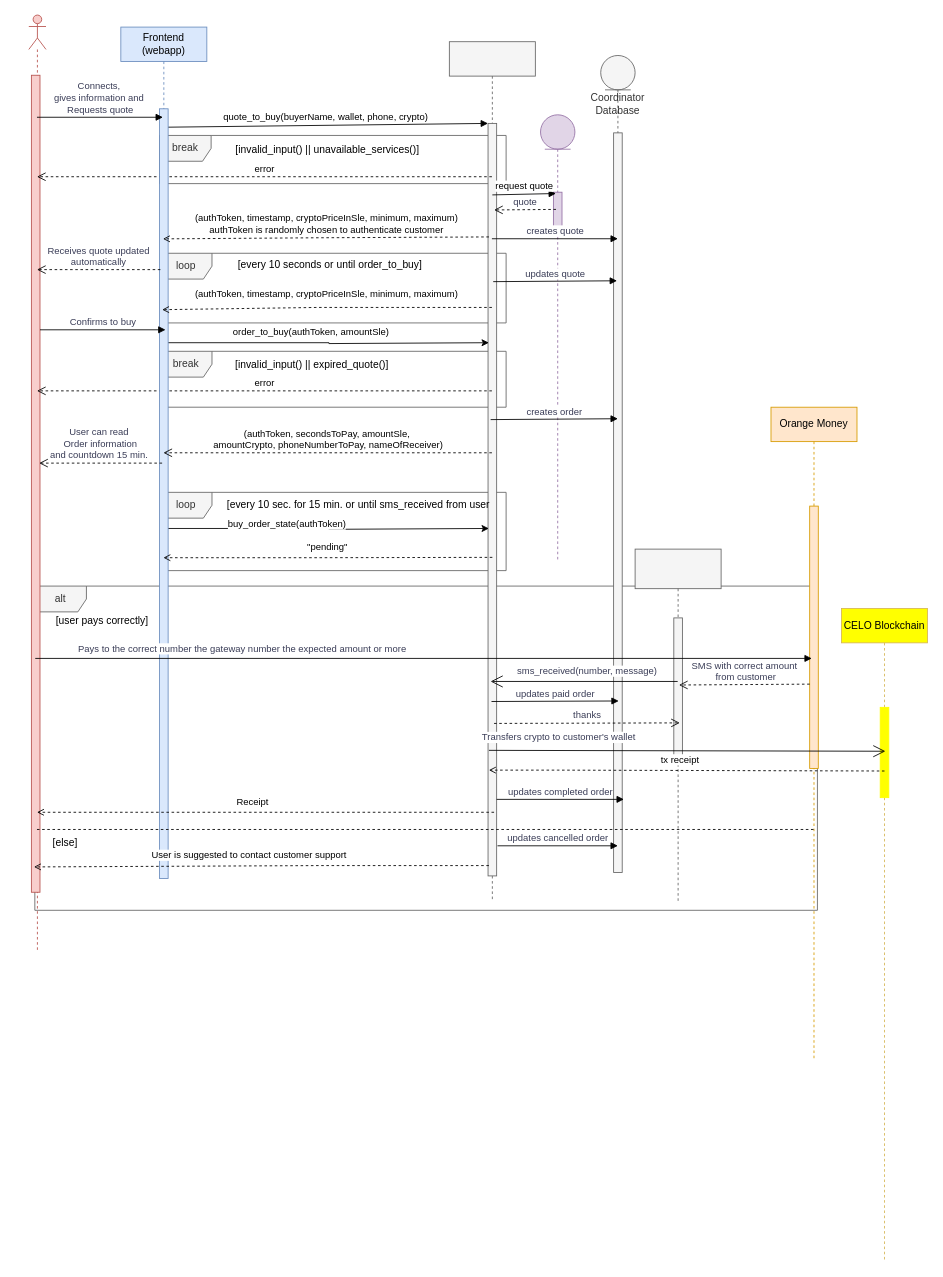
This 943x1277 diagram has some shape labels left out. Here are the shapes that lost their labels. From the top down, the box of each, then its label:
(540, 114, 575, 562): Quotes Oracle
(28, 14, 46, 952): Customer
(448, 41, 535, 902): Coordinator Backend
(634, 548, 721, 902): SMS and USSD Gateway
